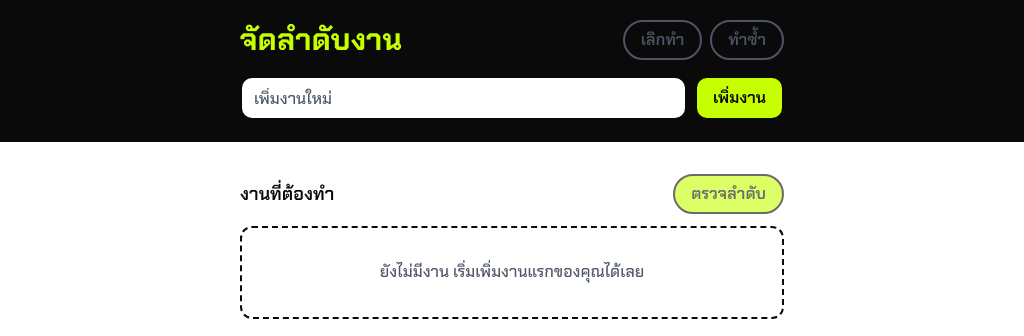
Test case: empty states and sections › P2-22 the empty state disappears after adding and returns after deleting the last task
This screenshot has width=1024, height=336.
Type "A" into the field labelled "เพิ่มงานใหม่" at (464, 98), box x1=240 y1=76 x2=687 y2=120
Then press Enter
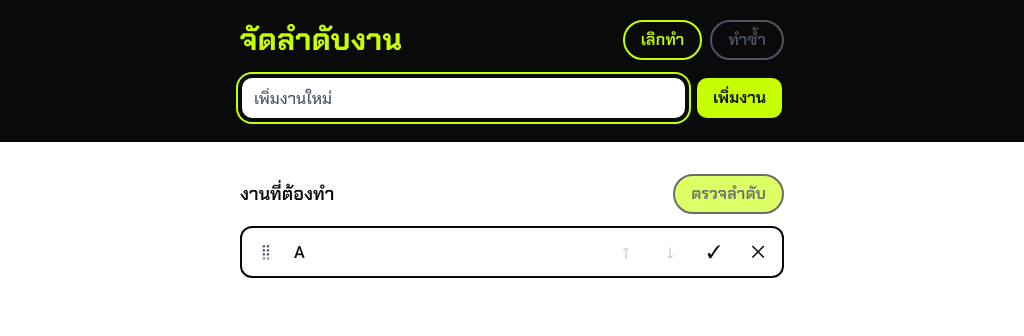
Now the text "ยังไม่มีงาน เริ่มเพิ่มงานแรกของคุณได้เลย" is gone
Click the button "✕" at (758, 252), box x1=738 y1=232 x2=778 y2=272
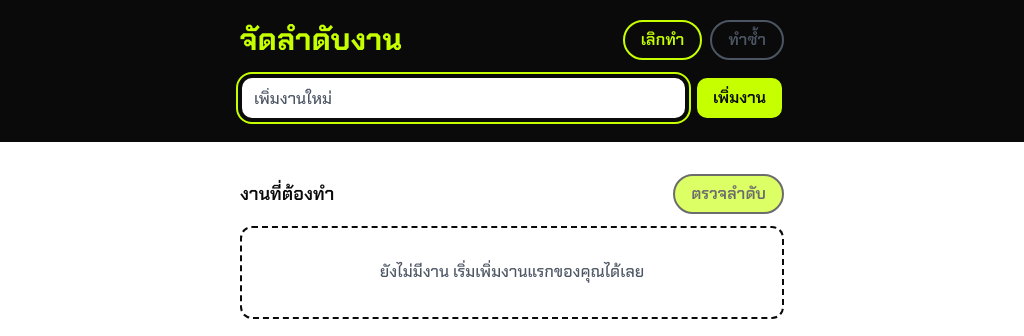
Now the text "ยังไม่มีงาน เริ่มเพิ่มงานแรกของคุณได้เลย" is shown, box x1=240 y1=226 x2=784 y2=319
